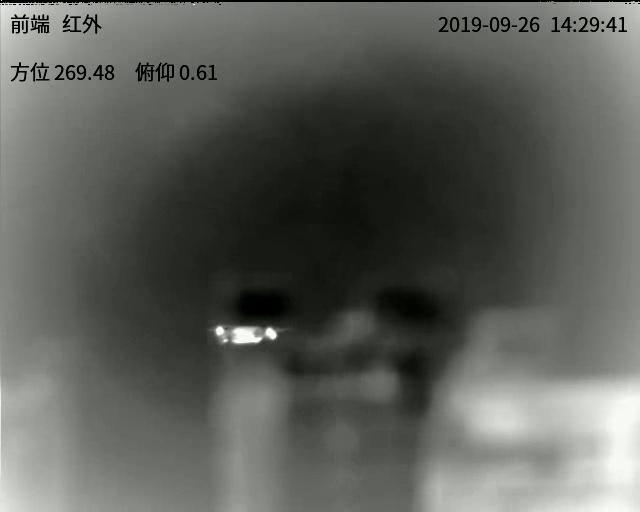DRONE: (210, 320, 291, 347)
